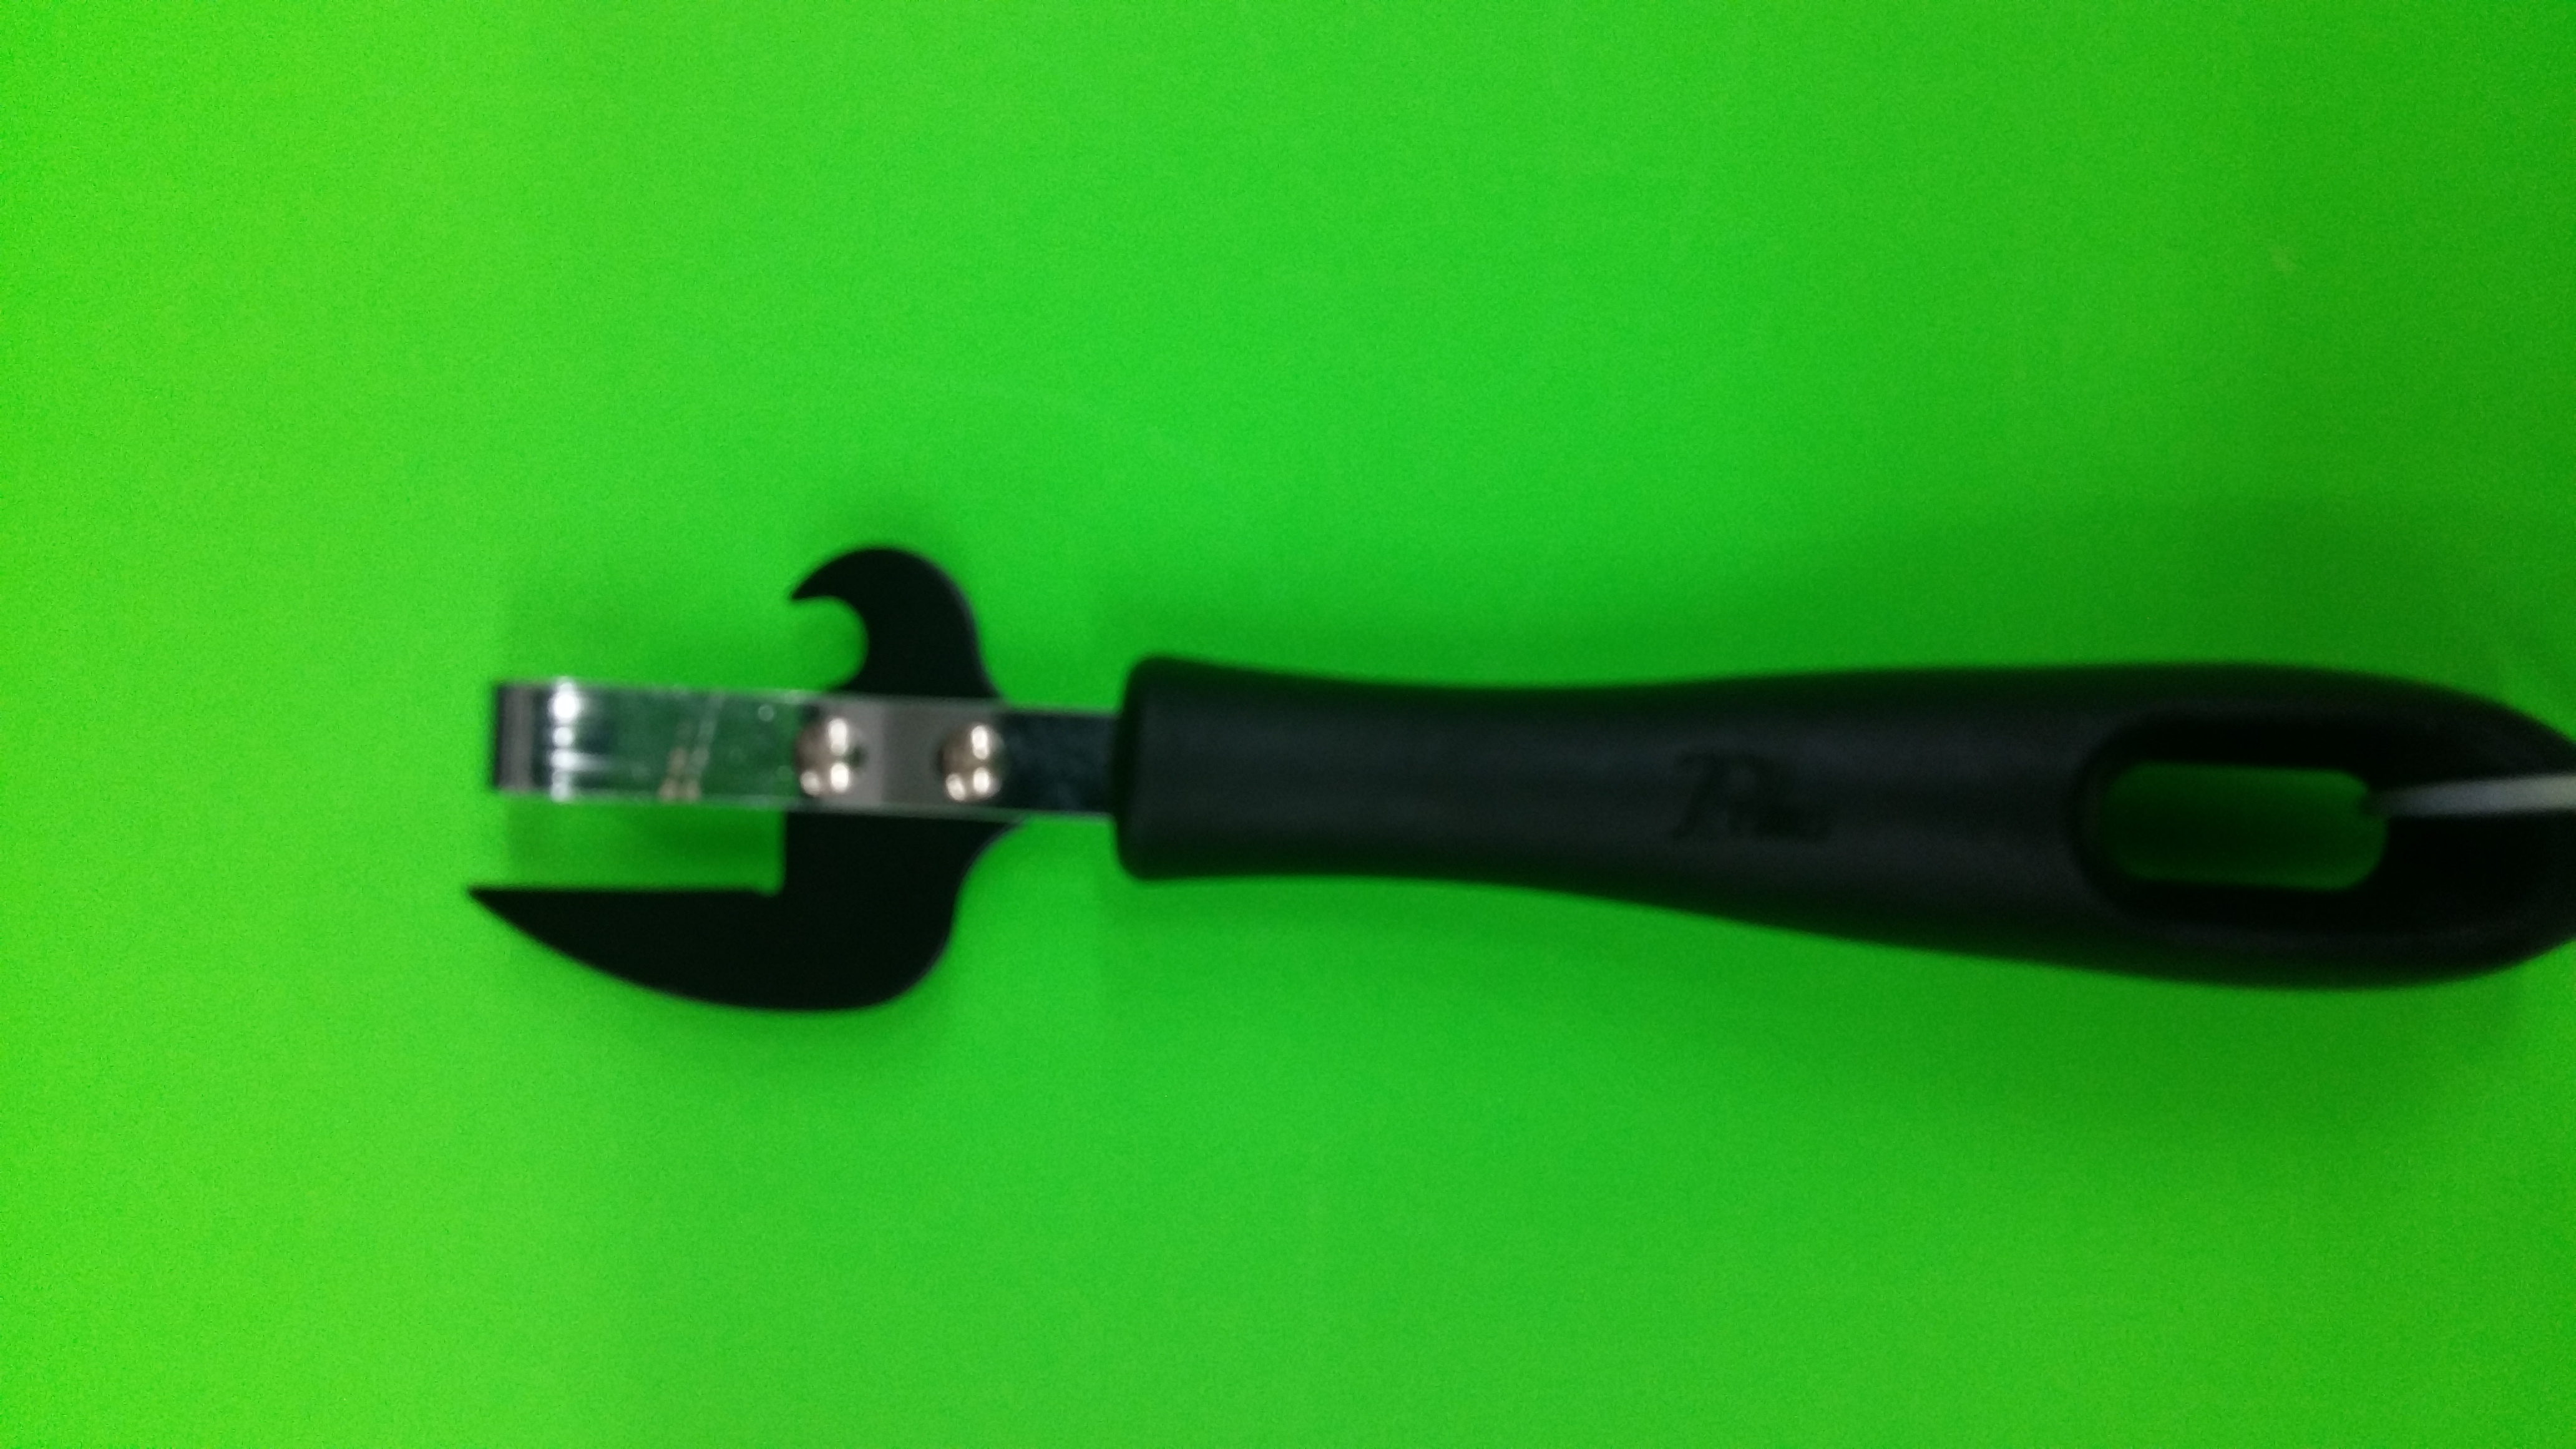bottleopener: (458, 545, 2576, 1016)
